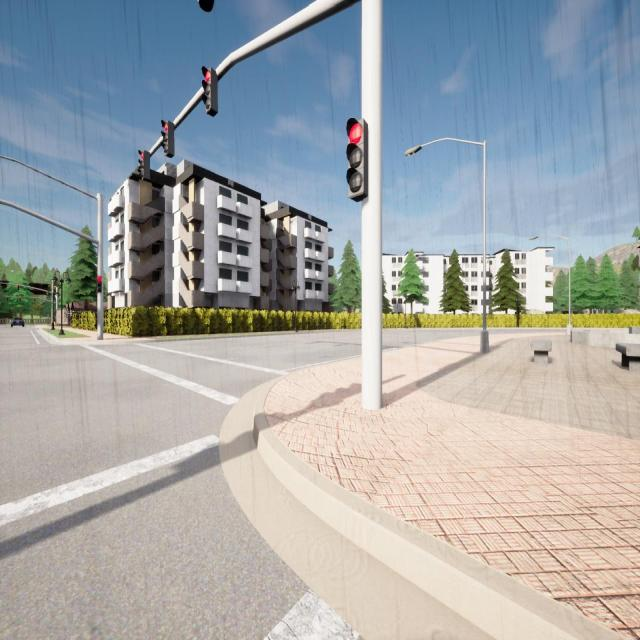Vehicle: (11, 317, 24, 327)
traffic_light: (346, 117, 368, 202), (202, 66, 218, 117), (161, 119, 175, 158), (138, 149, 150, 182), (97, 276, 102, 293), (18, 284, 20, 290), (34, 297, 36, 302), (7, 296, 8, 300), (20, 297, 21, 301)
